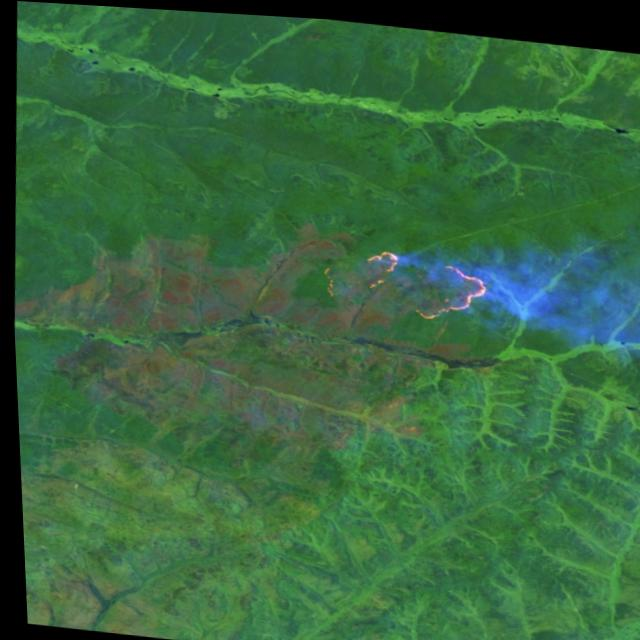fire: (362, 239, 494, 320)
